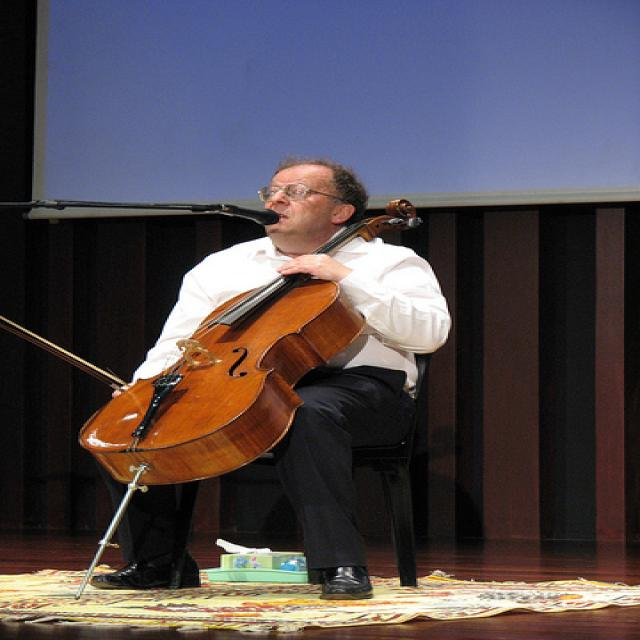cello: (79, 194, 413, 481)
